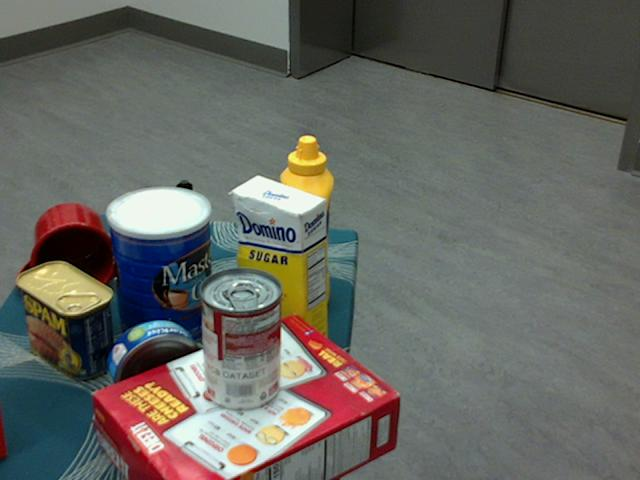cracker_box: (93, 315, 400, 479)
gelatin_box: (0, 401, 7, 455)
large_marker: (176, 179, 196, 276)
master_chef_can: (105, 187, 213, 352)
mug: (19, 202, 117, 299)
mustard_bottle: (277, 135, 332, 313)
potted_meat_can: (15, 259, 114, 378)
sugar_box: (232, 174, 327, 364)
tomato_soup_can: (198, 269, 281, 412)
tuna_fish_can: (106, 320, 205, 415)
